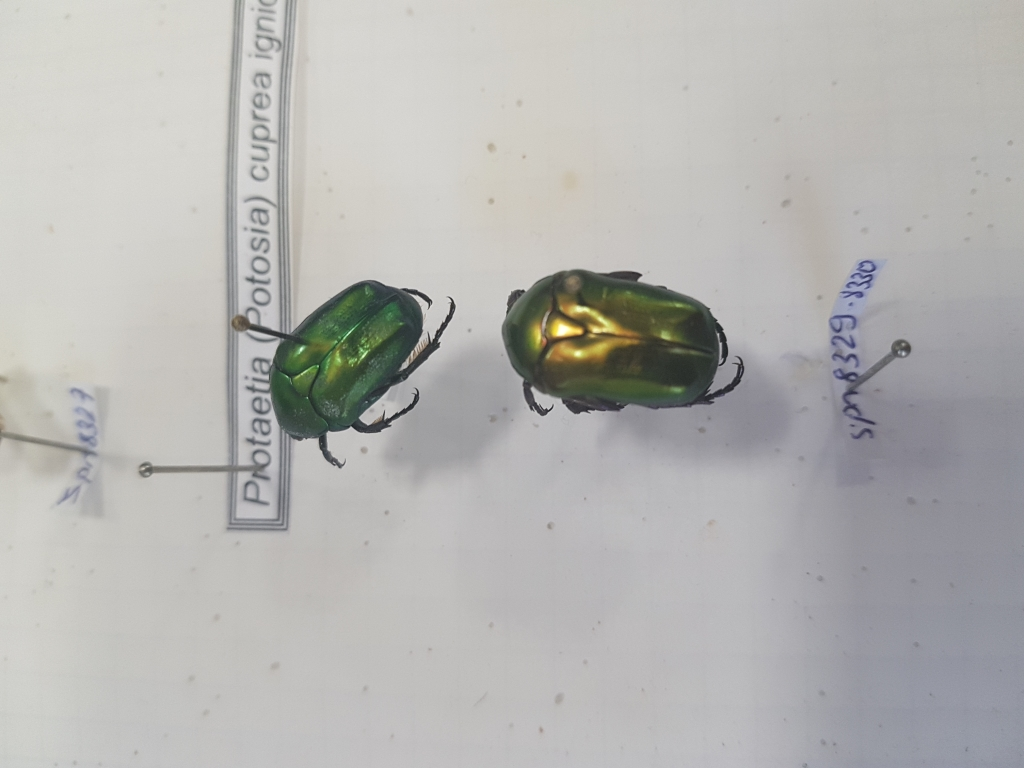Protaetia_cuprea_ignicollis: (486, 253, 758, 434), (262, 263, 465, 474)
